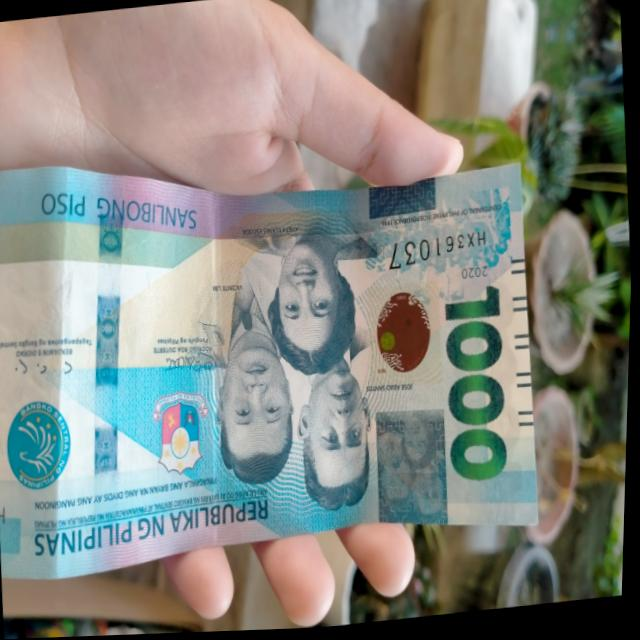concealed_value: (372, 406, 455, 533)
optically_variable_device: (365, 280, 447, 388)
serial_number: (385, 225, 496, 278)
value: (433, 284, 522, 491)
